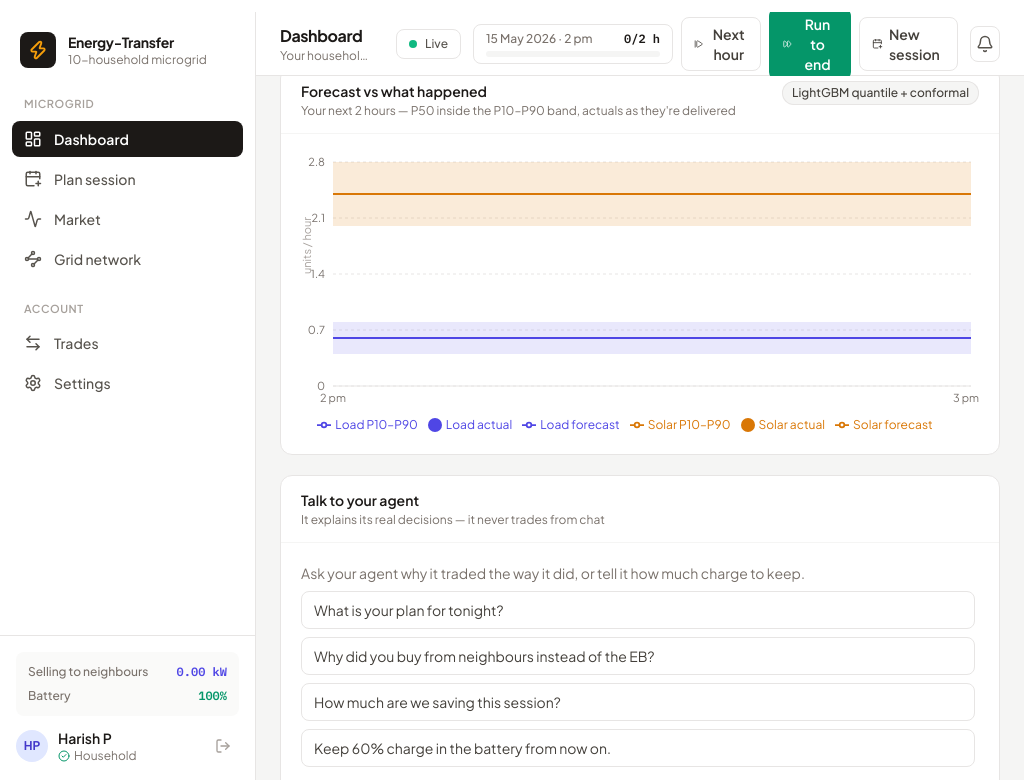
Test case: session controls › Next hour delivers exactly one hour
(page scrolled)
Click the button "Next hour": click(721, 44) [681, 16, 761, 70]
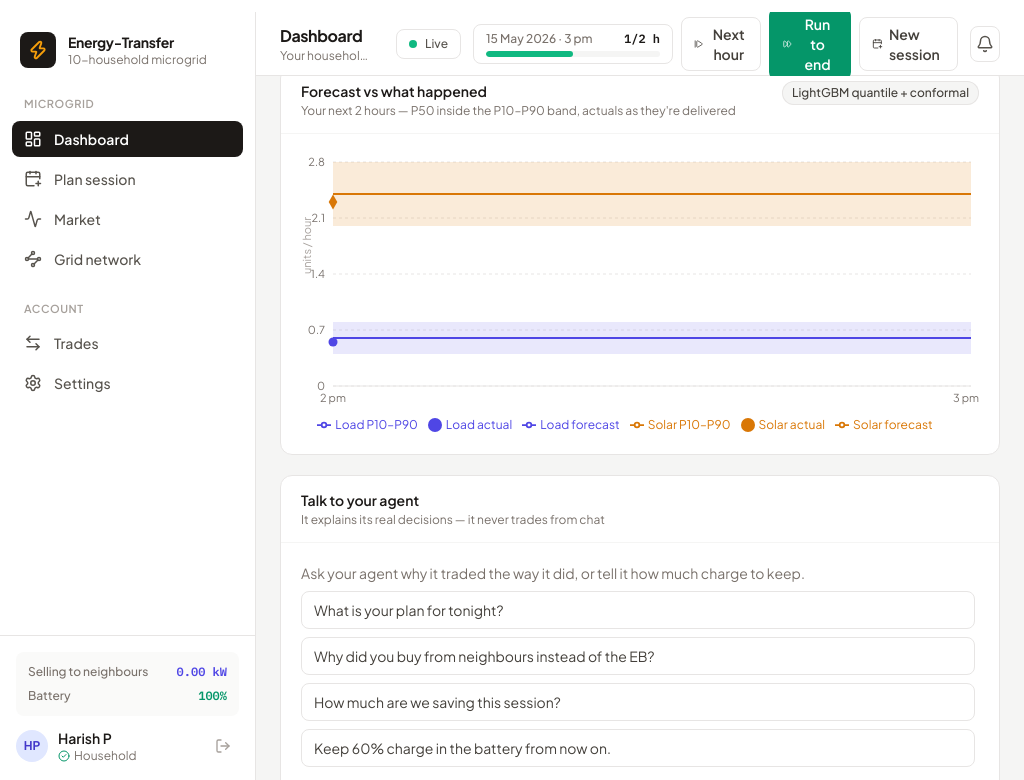
Expected: the text "1/2 h" is shown, [624, 30, 660, 46]
